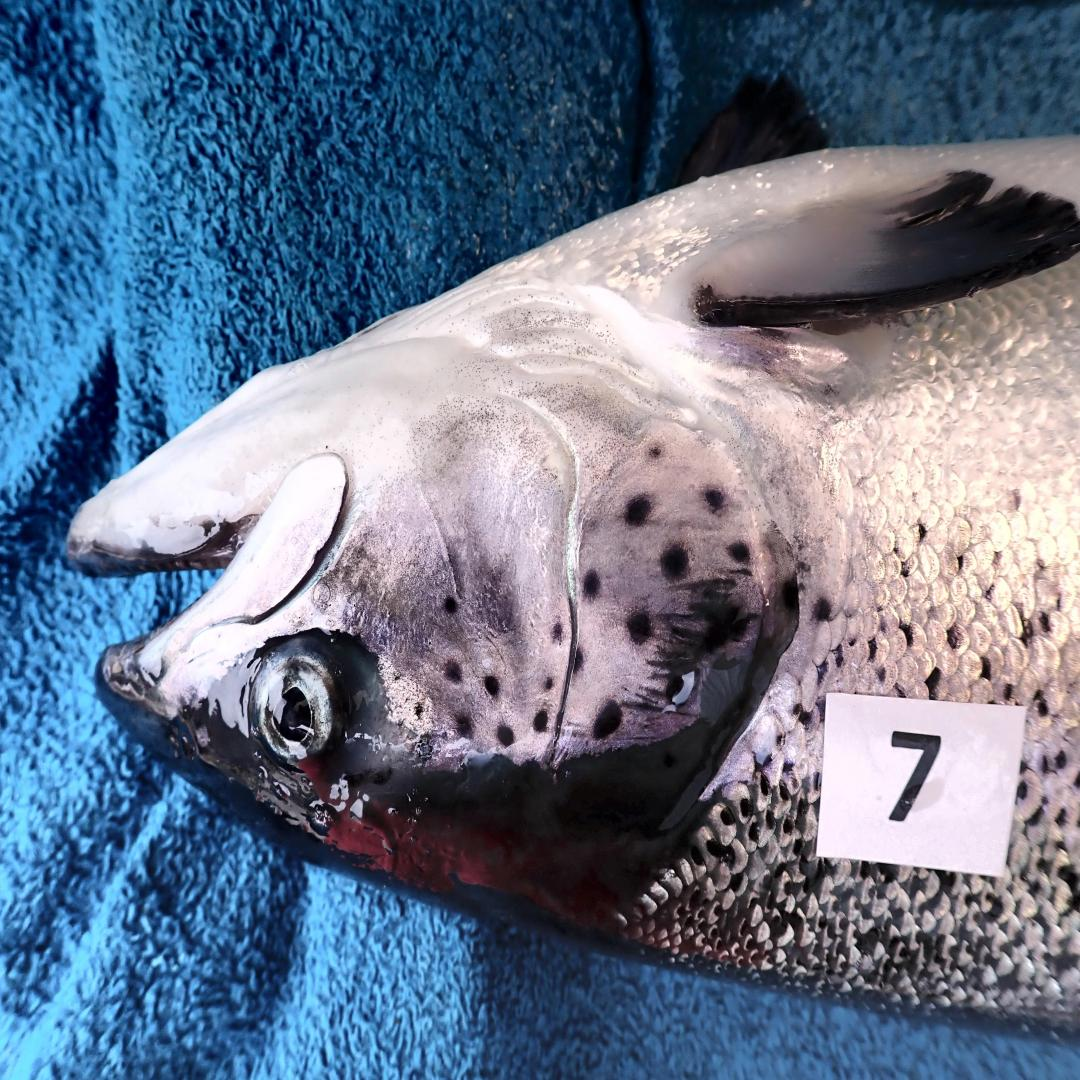spot: (593, 700, 622, 740), (667, 672, 696, 710), (660, 546, 688, 579), (626, 610, 650, 644), (624, 495, 650, 526), (454, 711, 476, 741), (571, 644, 588, 675), (414, 734, 433, 760), (705, 489, 726, 512), (582, 571, 599, 596), (728, 543, 749, 562), (496, 726, 515, 745), (485, 675, 500, 698), (445, 661, 462, 681), (551, 618, 564, 644), (534, 709, 548, 731), (445, 596, 458, 613), (414, 700, 425, 718), (648, 445, 661, 458), (544, 676, 553, 690)
